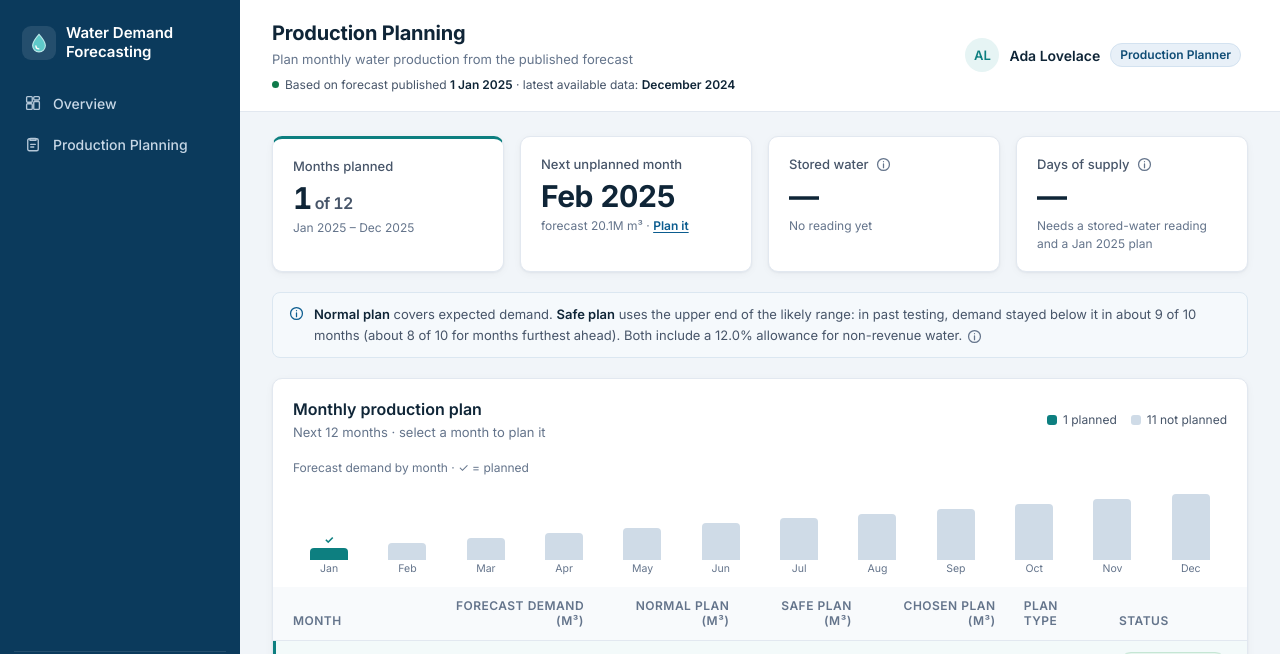
Test: plan history shows "Note: …" for a non-custom (safe) plan, and never "Reason: —"
Click the button with aria-label "Jan 2025: forecast".
click(329, 528)  # box [293,482,365,574]
(page scrolled)
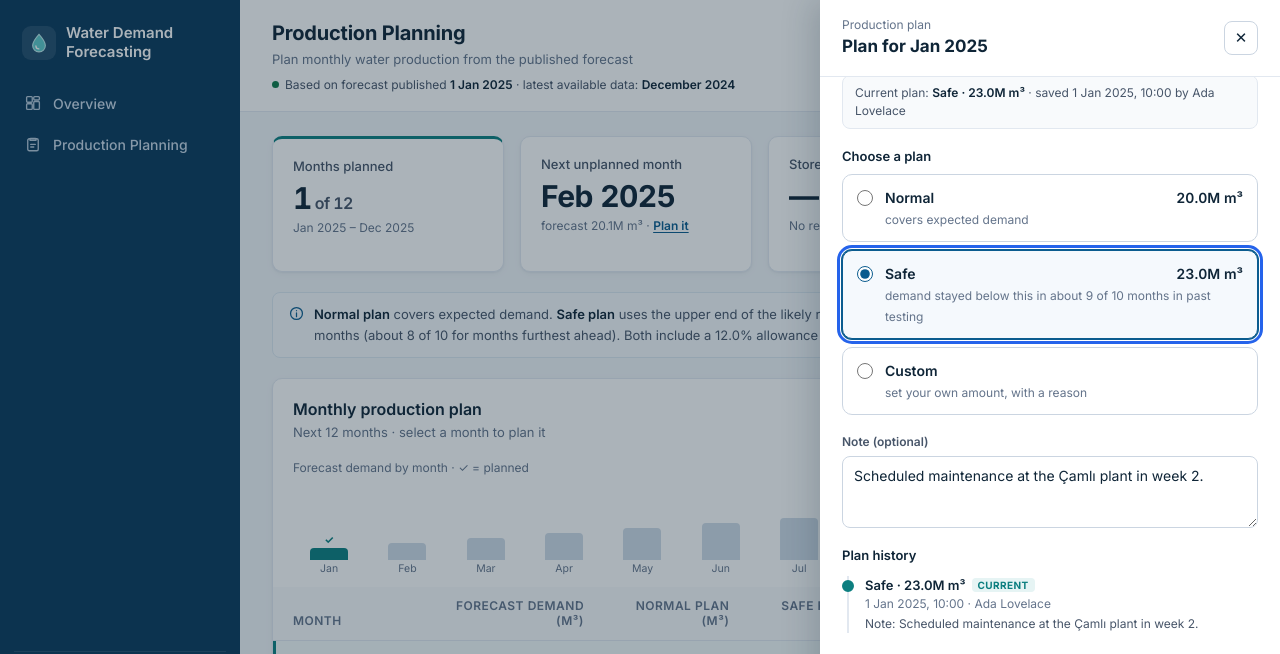
Check: the heading "Plan for Jan 2025" is shown, box [842,34,988,60]
